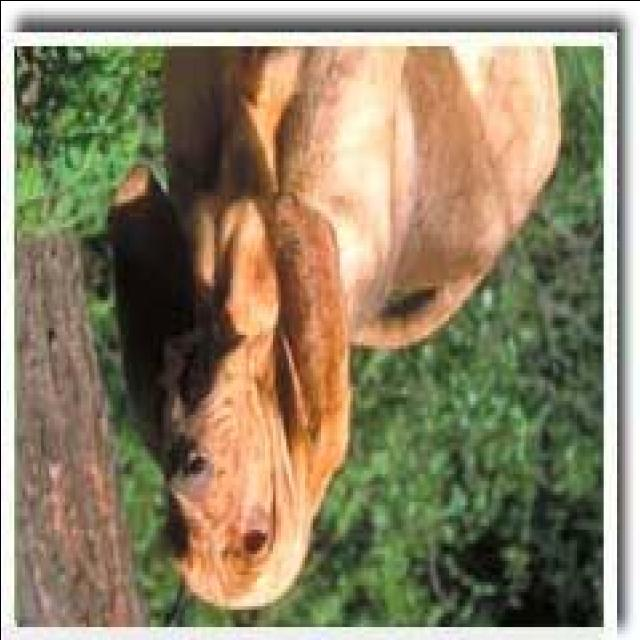bloodhound: (103, 45, 558, 609)
